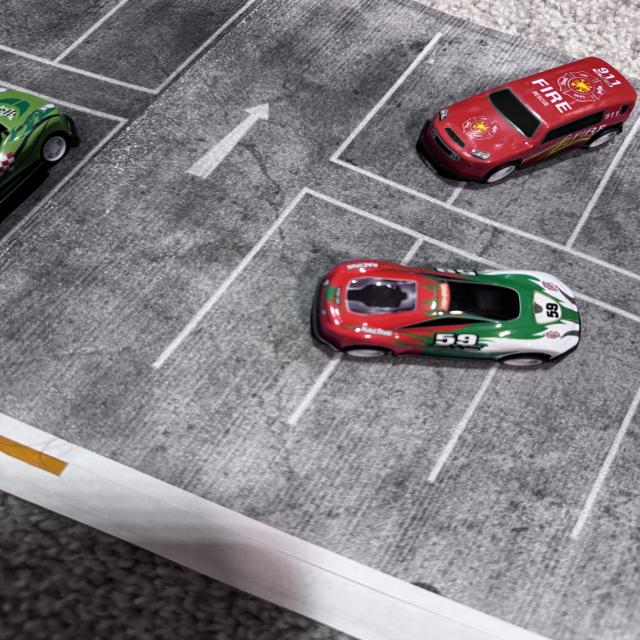Car: (284, 259, 604, 386), (408, 40, 615, 175), (0, 78, 125, 218)
